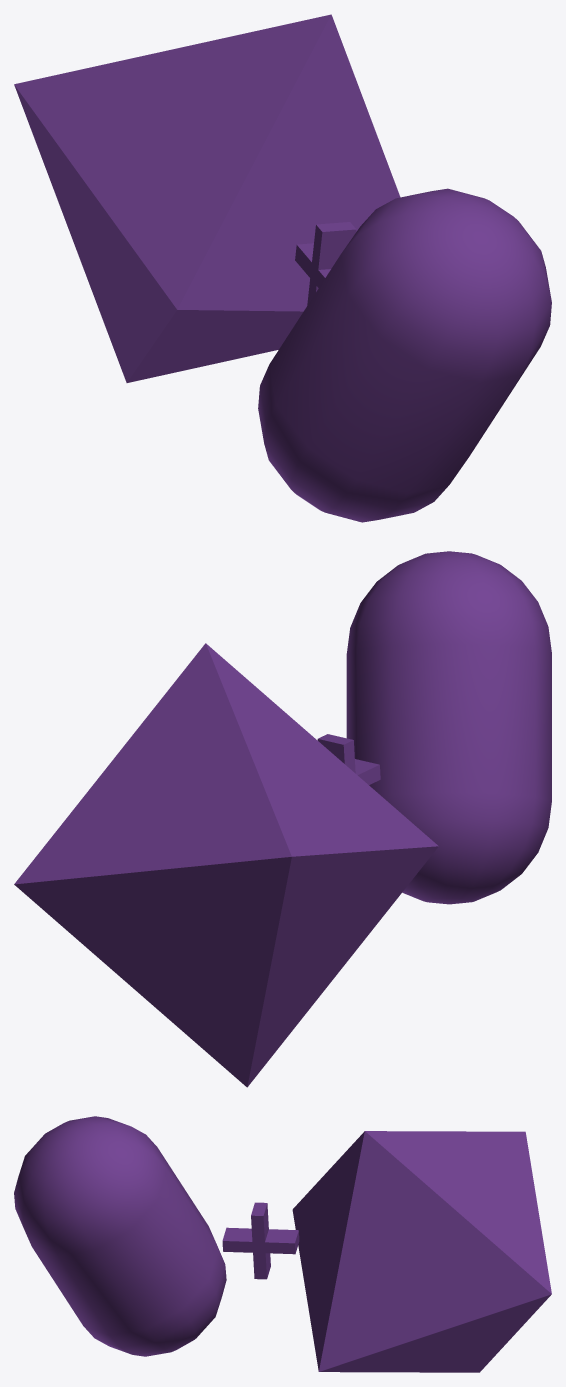
Rendered from rebus.FBX.
3 renders of one model, top to bottom at view 1: azimuth 30°, elevation 25°; view 2: azimuth 150°, elevation 25°; view 3: azimuth 270°, elevation 25°, orthographic. The views are drawn at different scales.
Visible parts, largest first — view 1: TextPlus004; view 2: TextPlus004; view 3: TextPlus004.
Part boxes in pixels (x1,y1,x2,y2): TextPlus004: (14, 14, 551, 522); TextPlus004: (14, 551, 551, 1087); TextPlus004: (14, 1116, 551, 1372).
Bounding box in the file's own units: 144 × 319 × 187.
